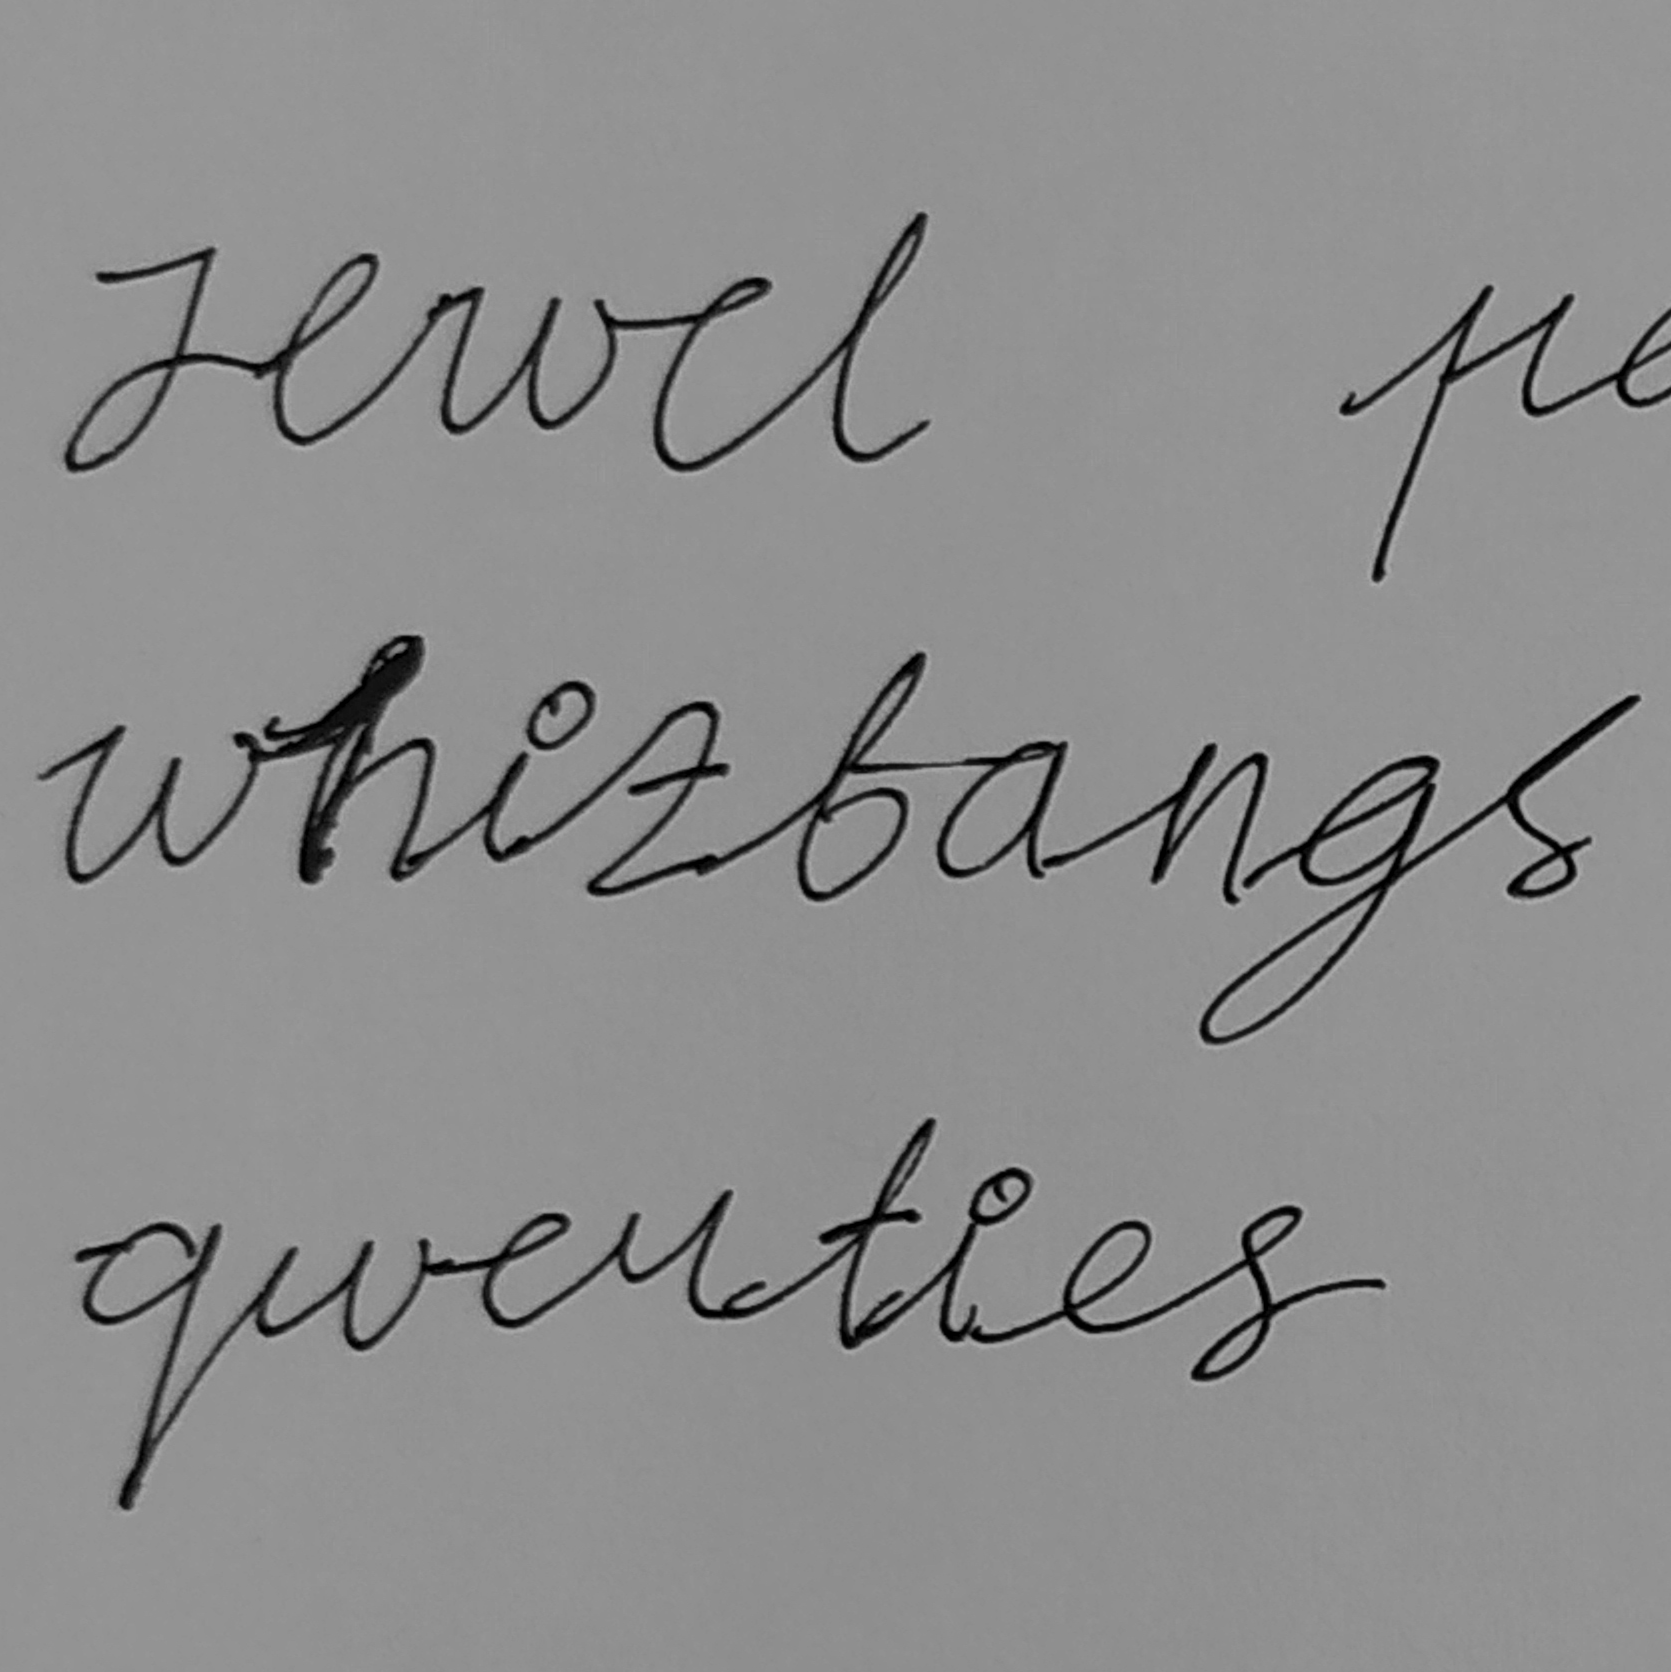a: (933, 736, 1070, 883)
b: (790, 647, 927, 904)
g: (1195, 750, 1445, 1049)
h: (292, 629, 442, 887)
i: (477, 676, 601, 866)
n: (1145, 737, 1272, 909)
s: (1500, 691, 1645, 903)
w: (63, 721, 265, 886)
z: (583, 696, 736, 903)
